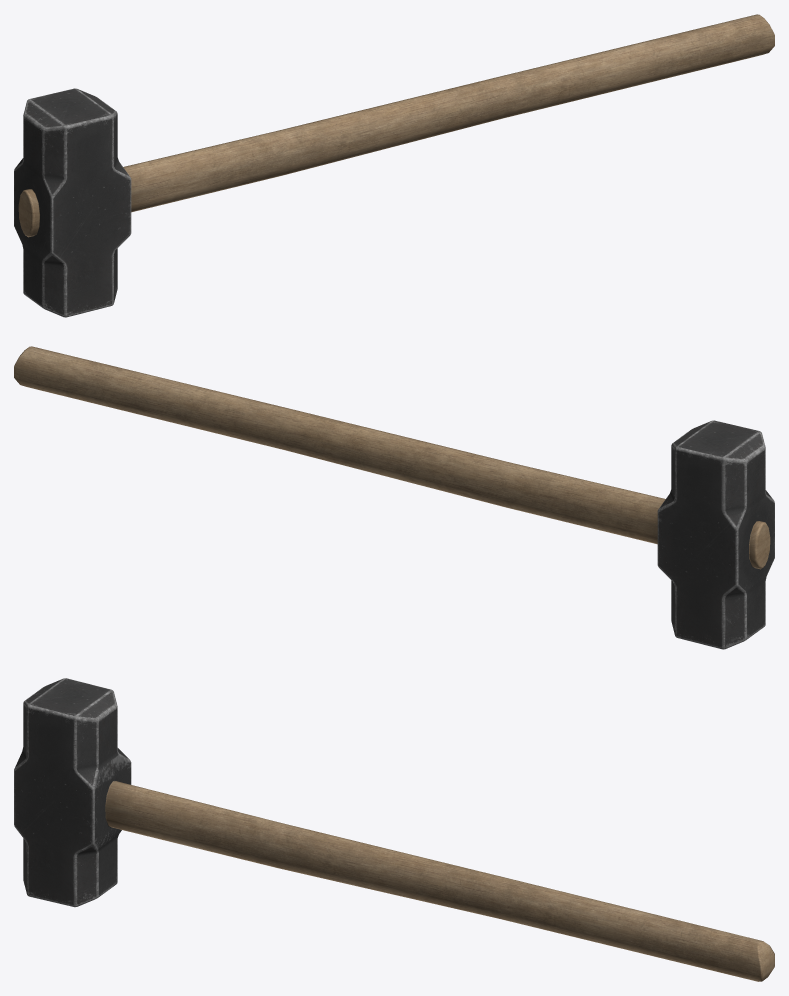
The model's file is sledge_hammer.glb.
3 renders of one model, top to bottom at view 1: azimuth 30°, elevation 25°; view 2: azimuth 150°, elevation 25°; view 3: azimuth 330°, elevation 25°, orthographic.
Parts seen in each view (by area): view 1: sledge_hammer; view 2: sledge_hammer; view 3: sledge_hammer.
Part boxes in pixels (box(x1,y1,x2,y2)): sledge_hammer: box(14, 14, 774, 317); sledge_hammer: box(14, 346, 774, 649); sledge_hammer: box(14, 678, 774, 981).
Bounding box in the file's own units: 0.6625 × 0.1633 × 0.0594.
Materials: 1 (1 with a texture image).
